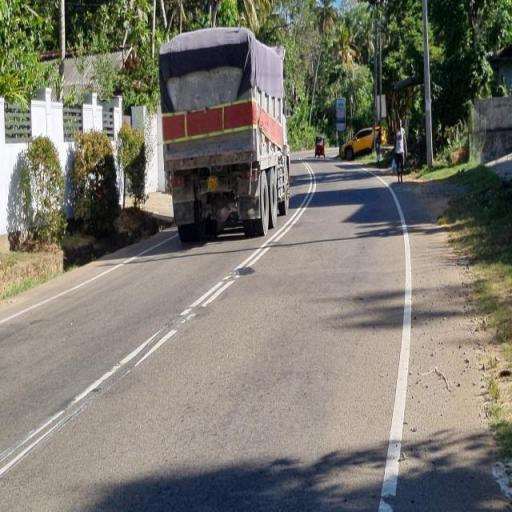double_white_line: (177, 162, 317, 325)
